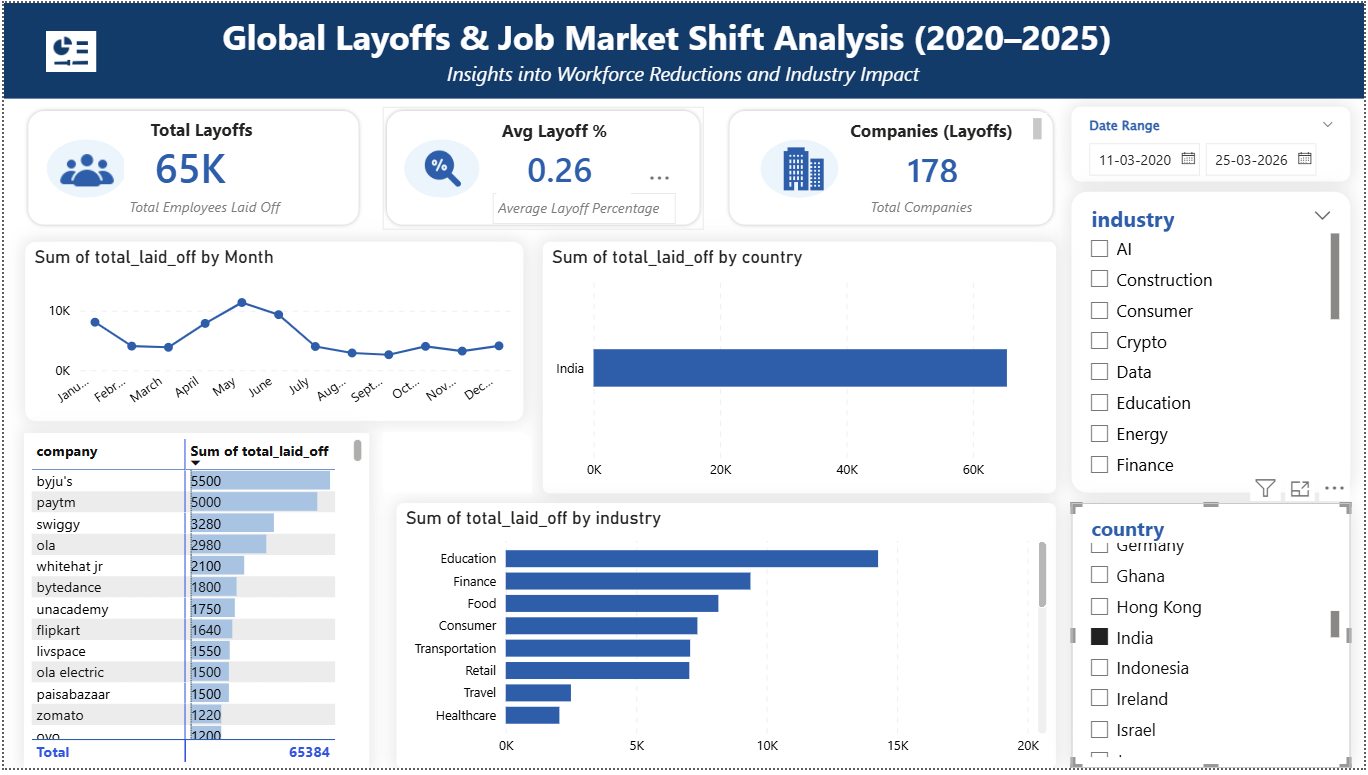

The page's visual inventory and layout, read from the dashboard file:
{"tool":"powerbi","page":{"name":"Page 1","canvas":[1280,720],"ordinal":0},"visuals":[{"type":"lineChart","fields":{"Category":["layoffs1.date.Variation.Date Hierarchy.Year","layoffs1.date.Variation.Date Hierarchy.Quarter","layoffs1.date.Variation.Date Hierarchy.Month","layoffs1.date.Variation.Date Hierarchy.Day"],"Y":["Sum(layoffs1.total_laid_off)"]},"box":[20.3,224.3,468.9,169.1],"z":0},{"type":"slicer","fields":{"Values":["layoffs1.date"]},"box":[1004.7,97.6,262.4,70.6],"z":1000},{"type":"slicer","fields":{"Values":["layoffs1.country"]},"box":[1004.3,470,262.6,250.2],"z":2000},{"type":"slicer","fields":{"Values":["layoffs1.industry"]},"box":[1004.3,178.1,262.6,282.9],"z":3000},{"type":"clusteredBarChart","fields":{"Category":["layoffs1.country"],"Y":["Sum(layoffs1.total_laid_off)"]},"box":[507.2,224.3,483.5,236.7],"z":4000},{"type":"clusteredBarChart","fields":{"Category":["layoffs1.industry"],"Y":["Sum(layoffs1.total_laid_off)"]},"box":[369.7,470,621,250.2],"z":5000},{"type":"tableEx","fields":{"Values":["layoffs1.company","Sum(layoffs1.total_laid_off)"]},"box":[19.2,404.6,324.6,315.6],"z":6000},{"type":"shape","box":[0,0,1280,90],"z":7000},{"type":"textbox","box":[186,4.7,876.7,84.9],"z":8000},{"type":"textbox","box":[369.8,47.7,539.5,61.6],"z":9000},{"type":"image","box":[19.8,17.4,86,55.8],"z":10000},{"type":"group","id":"g1","title":"Group 1","box":[356.2,98.1,302.1,115],"z":11000},{"type":"group","id":"g2","title":"Group 1","box":[678.5,98.1,312.2,115],"z":12000},{"type":"group","id":"g3","title":"Group 2","box":[19.2,98.1,319,115],"z":13000},{"type":"shape","box":[19.2,98.1,319,115],"z":14000,"group":"g3"},{"type":"shape","box":[356.2,98.1,302.1,115],"z":14000,"group":"g1"},{"type":"shape","box":[678.5,98.1,312.2,115],"z":14000,"group":"g2"},{"type":"shape","box":[356.2,403.5,140.9,57.5],"z":14000},{"type":"shape","box":[40.7,128.5,75.3,55.1],"z":15000,"group":"g3"},{"type":"shape","box":[376.6,128.5,71.3,55.1],"z":15000,"group":"g1"},{"type":"shape","box":[711.9,128.8,73.7,55.2],"z":15000,"group":"g2"},{"type":"cardVisual","title":"Companies Conducting Layoffs","fields":{"Data":["layoffs1.company_with_layoffs"]},"box":[821.1,125.1,110.5,62],"z":17000,"group":"g2"},{"type":"textbox","box":[810,178.5,158.7,27.3],"z":18000,"group":"g2"},{"type":"textbox","box":[459.5,179.9,171.7,28.5],"z":18000,"group":"g1"},{"type":"cardVisual","title":"Total Layoffs","fields":{"Data":["Sum(layoffs1.total_laid_off)"]},"box":[113.9,116.3,151.3,74.9],"z":18250,"group":"g3"},{"type":"textbox","box":[113.9,177.9,168.2,27.8],"z":18375,"group":"g3"},{"type":"textbox","box":[133.7,103.1,117.2,36.4],"z":18500,"group":"g3"},{"type":"textbox","box":[791.2,104.5,189.6,30.7],"z":18500,"group":"g2"},{"type":"cardVisual","title":"Avg Layoff''s","fields":{"Data":["layoffs1.avg og layoff %"]},"box":[463,122.8,126.2,65.4],"z":18750,"group":"g1"},{"type":"textbox","box":[463,103.7,122.9,33.8],"z":18875,"group":"g1"},{"type":"image","box":[53.8,128.5,50.2,55.1],"z":19000,"group":"g3"},{"type":"image","box":[389,128.5,47.5,55.1],"z":19000,"group":"g1"},{"type":"image","box":[726.7,134.6,51.1,44.2],"z":19000,"group":"g2"}]}

Visuals, with their boxes in screenshot pixels (x1, y1, x2, y2), scaled from the page's 1280x720 canvas onto the 1368x775 screenshot:
lineChart - layoffs1.date.Variation.Date Hierarchy.Year x layoffs1.date.Variation.Date Hierarchy.Quarter: pyautogui.locateOnScreen(22, 241, 523, 423)
slicer - layoffs1.date: pyautogui.locateOnScreen(1074, 105, 1354, 181)
slicer - layoffs1.country: pyautogui.locateOnScreen(1073, 506, 1354, 774)
slicer - layoffs1.industry: pyautogui.locateOnScreen(1073, 192, 1354, 496)
clusteredBarChart - layoffs1.country x Sum(layoffs1.total_laid_off): pyautogui.locateOnScreen(542, 241, 1059, 496)
clusteredBarChart - layoffs1.industry x Sum(layoffs1.total_laid_off): pyautogui.locateOnScreen(395, 506, 1059, 774)
tableEx - layoffs1.company x Sum(layoffs1.total_laid_off): pyautogui.locateOnScreen(21, 436, 367, 774)
shape: pyautogui.locateOnScreen(0, 0, 1367, 97)
textbox: pyautogui.locateOnScreen(199, 5, 1136, 96)
textbox: pyautogui.locateOnScreen(395, 51, 972, 118)
image: pyautogui.locateOnScreen(21, 19, 113, 79)
"Group 1" group: pyautogui.locateOnScreen(381, 106, 704, 229)
"Group 1" group: pyautogui.locateOnScreen(725, 106, 1059, 229)
"Group 2" group: pyautogui.locateOnScreen(21, 106, 361, 229)
shape: pyautogui.locateOnScreen(21, 106, 361, 229)
shape: pyautogui.locateOnScreen(381, 106, 704, 229)
shape: pyautogui.locateOnScreen(725, 106, 1059, 229)
shape: pyautogui.locateOnScreen(381, 434, 531, 496)
shape: pyautogui.locateOnScreen(43, 138, 124, 198)
shape: pyautogui.locateOnScreen(402, 138, 479, 198)
shape: pyautogui.locateOnScreen(761, 139, 840, 198)
"Companies Conducting Layoffs" cardVisual: pyautogui.locateOnScreen(878, 135, 996, 201)
textbox: pyautogui.locateOnScreen(866, 192, 1035, 222)
textbox: pyautogui.locateOnScreen(491, 194, 675, 224)
"Total Layoffs" cardVisual: pyautogui.locateOnScreen(122, 125, 283, 206)
textbox: pyautogui.locateOnScreen(122, 191, 301, 221)
textbox: pyautogui.locateOnScreen(143, 111, 268, 150)
textbox: pyautogui.locateOnScreen(846, 112, 1048, 146)
"Avg Layoff''s" cardVisual: pyautogui.locateOnScreen(495, 132, 630, 203)
textbox: pyautogui.locateOnScreen(495, 112, 626, 148)
image: pyautogui.locateOnScreen(57, 138, 111, 198)
image: pyautogui.locateOnScreen(416, 138, 467, 198)
image: pyautogui.locateOnScreen(777, 145, 831, 192)
